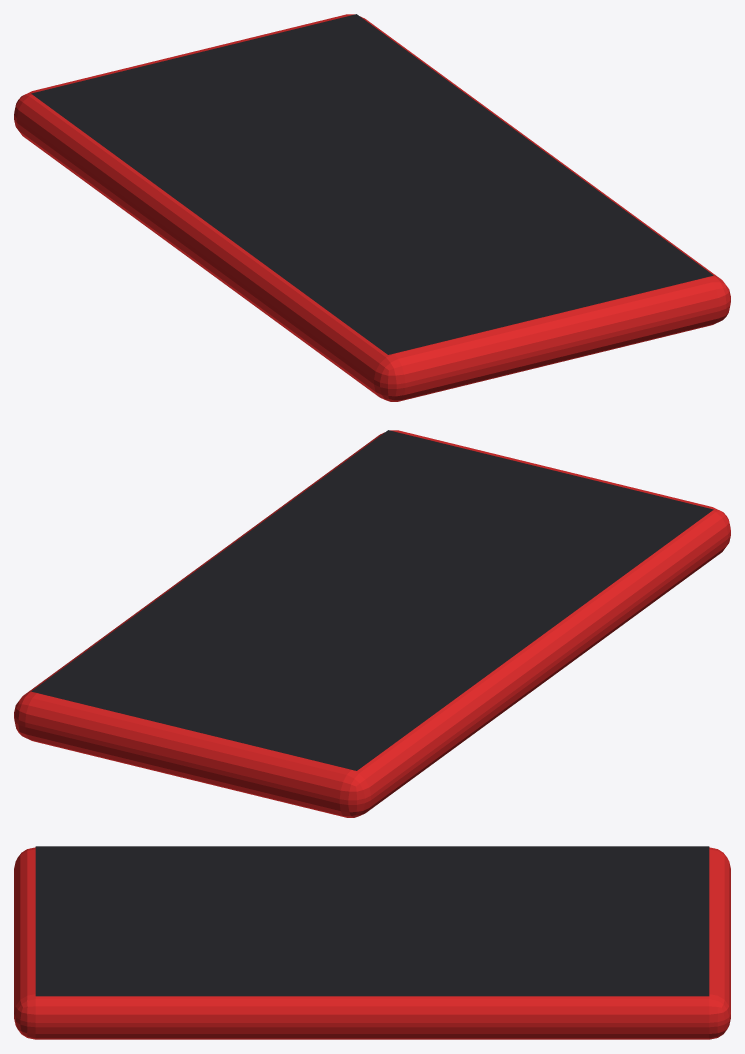
Rendered from motorola-razr-model-172-budget-2024.glb.
The picture shows the model from 3 angles, top to bottom: view 1: azimuth 30°, elevation 25°; view 2: azimuth 150°, elevation 25°; view 3: azimuth 270°, elevation 25°; orthographic projection. The views are drawn at different scales.
Visible parts, largest first — view 1: Phone_Screen, Phone_Body; view 2: Phone_Screen, Phone_Body; view 3: Phone_Screen, Phone_Body.
Part boxes in pixels (<box>): Phone_Screen: <box>31,14,713,354</box>; Phone_Body: <box>14,14,730,401</box>; Phone_Screen: <box>31,430,713,770</box>; Phone_Body: <box>14,430,730,817</box>; Phone_Screen: <box>35,846,709,996</box>; Phone_Body: <box>14,847,730,1039</box>.
Bounding box in the file's own units: 0.0764 × 0.0096 × 0.142.
